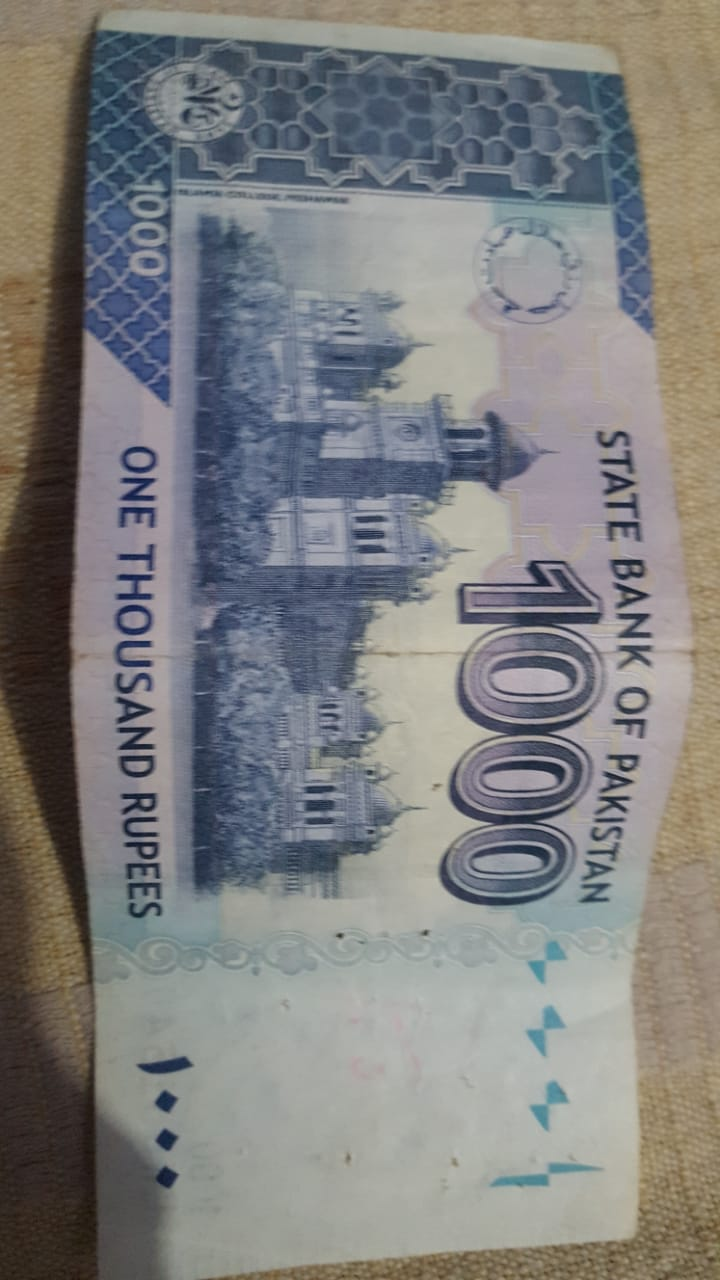1000 rupee: (77, 22, 692, 1272)
